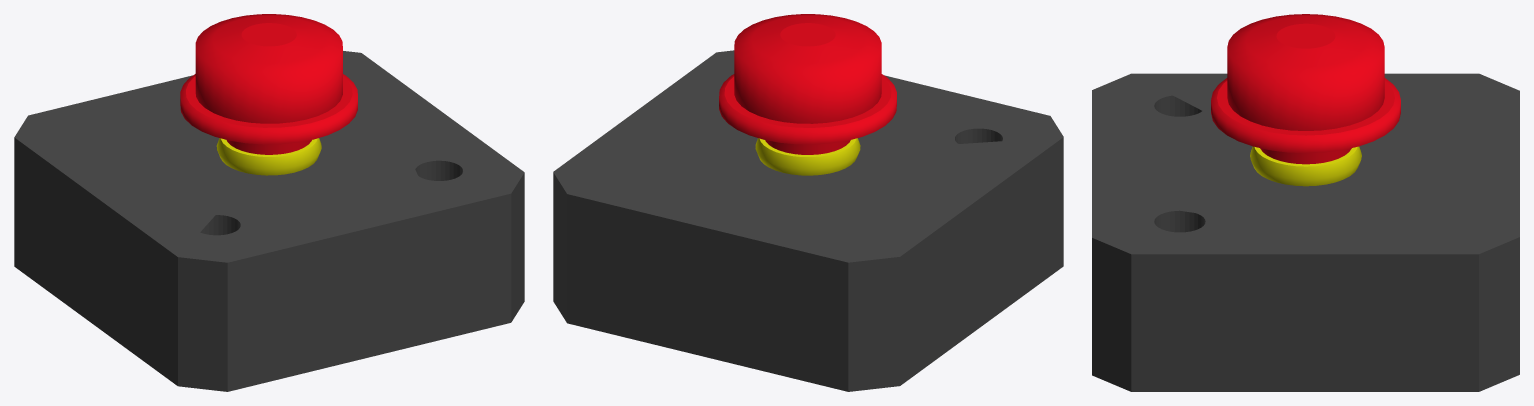
The model's file is Botão.fbx.
3 renders of one model, left to right at view 1: azimuth 30°, elevation 25°; view 2: azimuth 150°, elevation 25°; view 3: azimuth 270°, elevation 25°, orthographic. The views are drawn at different scales.
Visible parts, largest first — view 1: Cube, Cylinder, Cylinder.001; view 2: Cube, Cylinder, Cylinder.001; view 3: Cube, Cylinder, Cylinder.001.
Part boxes in pixels (box(x1,y1,x2,y2)): Cube: box(14, 51, 524, 391); Cylinder: box(180, 14, 357, 154); Cylinder.001: box(216, 138, 321, 175); Cube: box(553, 50, 1063, 391); Cylinder: box(719, 14, 896, 154); Cylinder.001: box(755, 138, 860, 175); Cube: box(1092, 73, 1519, 391); Cylinder: box(1211, 14, 1400, 164); Cylinder.001: box(1250, 146, 1361, 186).
Bounding box in the file's own units: 343 × 235 × 344.
